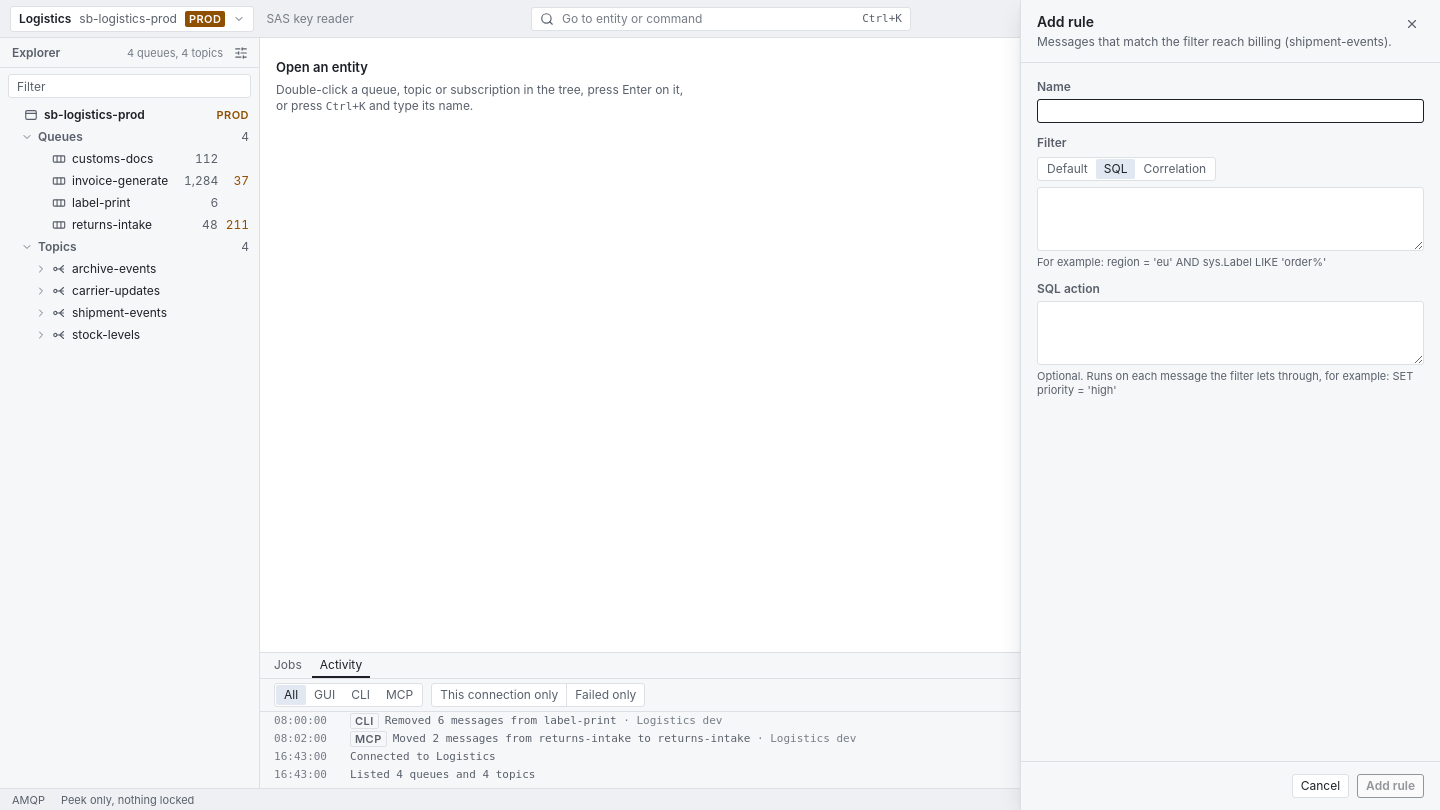
Test: rule editing › empty_correlation_shows_794_and_blocks
Type keys "c"
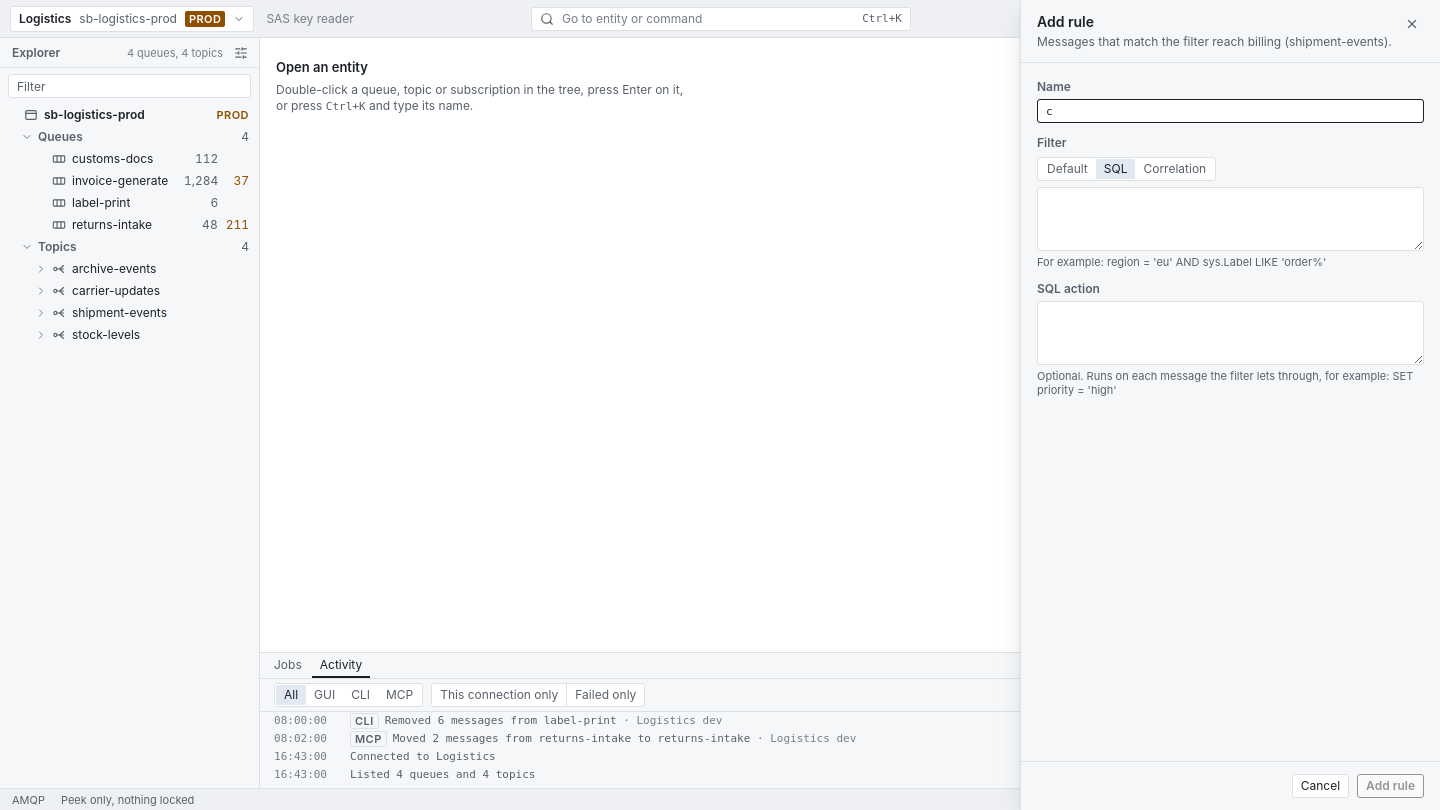
Click the radio button labelled "Correlation". click: click(1175, 169)
box: x1=1135 y1=159 x2=1214 y2=179
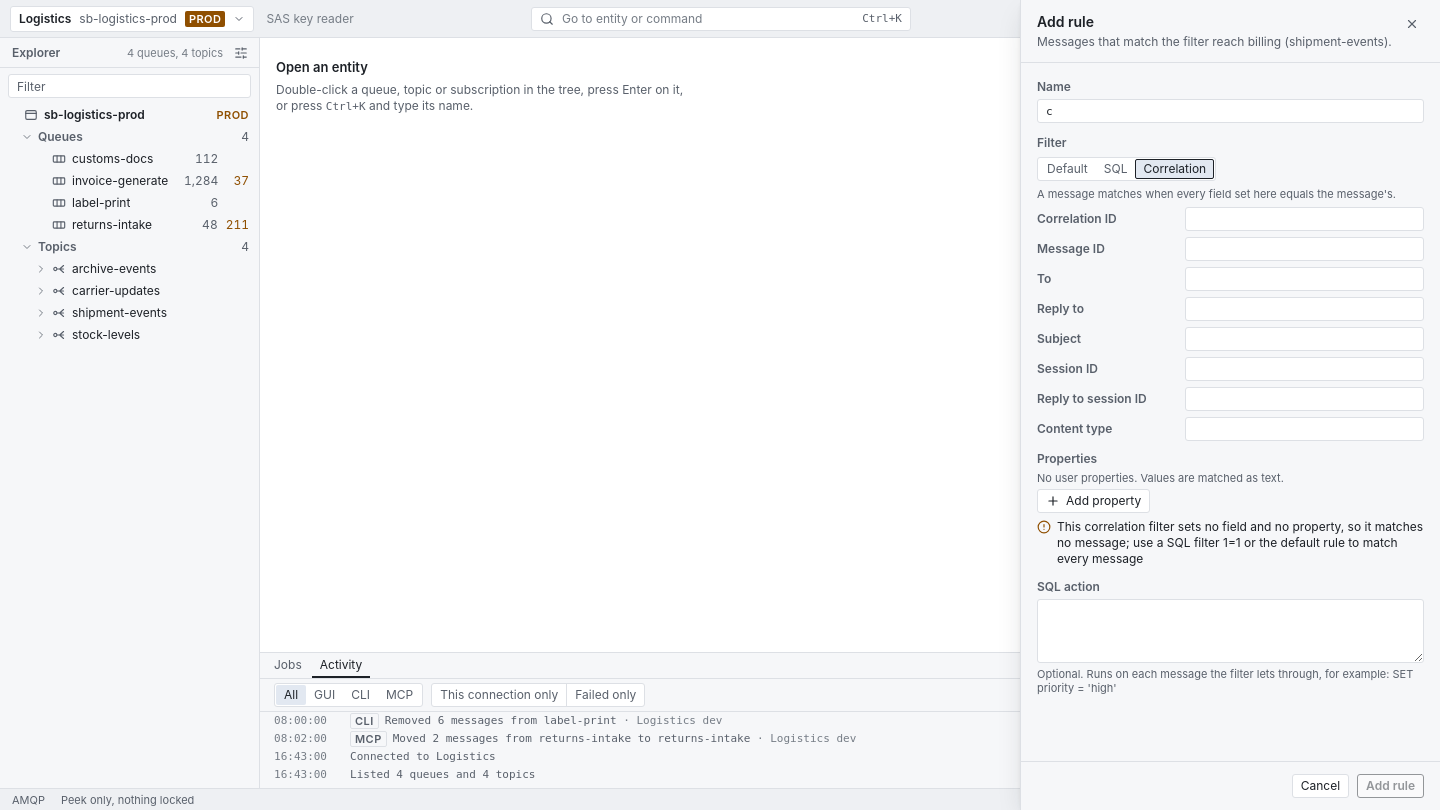
Expected: the button "Add rule" is disabled, x1=1357 y1=774 x2=1424 y2=798
Result: the text "matches no message" is shown at x1=1057 y1=519 x2=1423 y2=566
